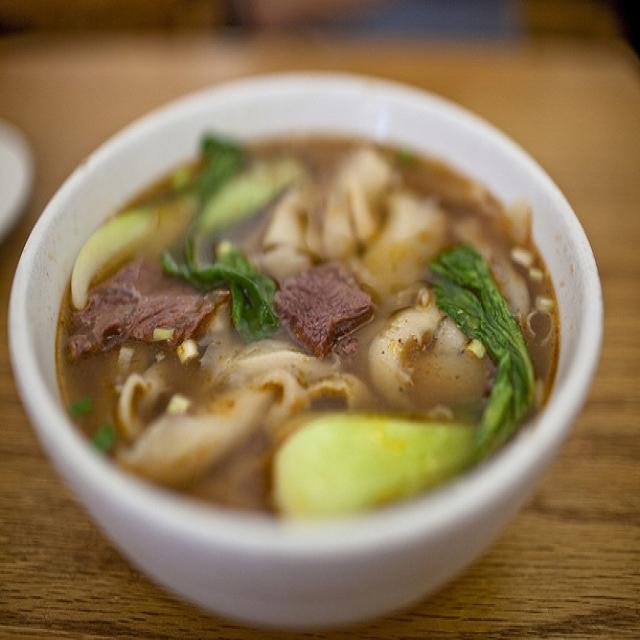面条主食: (15, 58, 608, 591)
